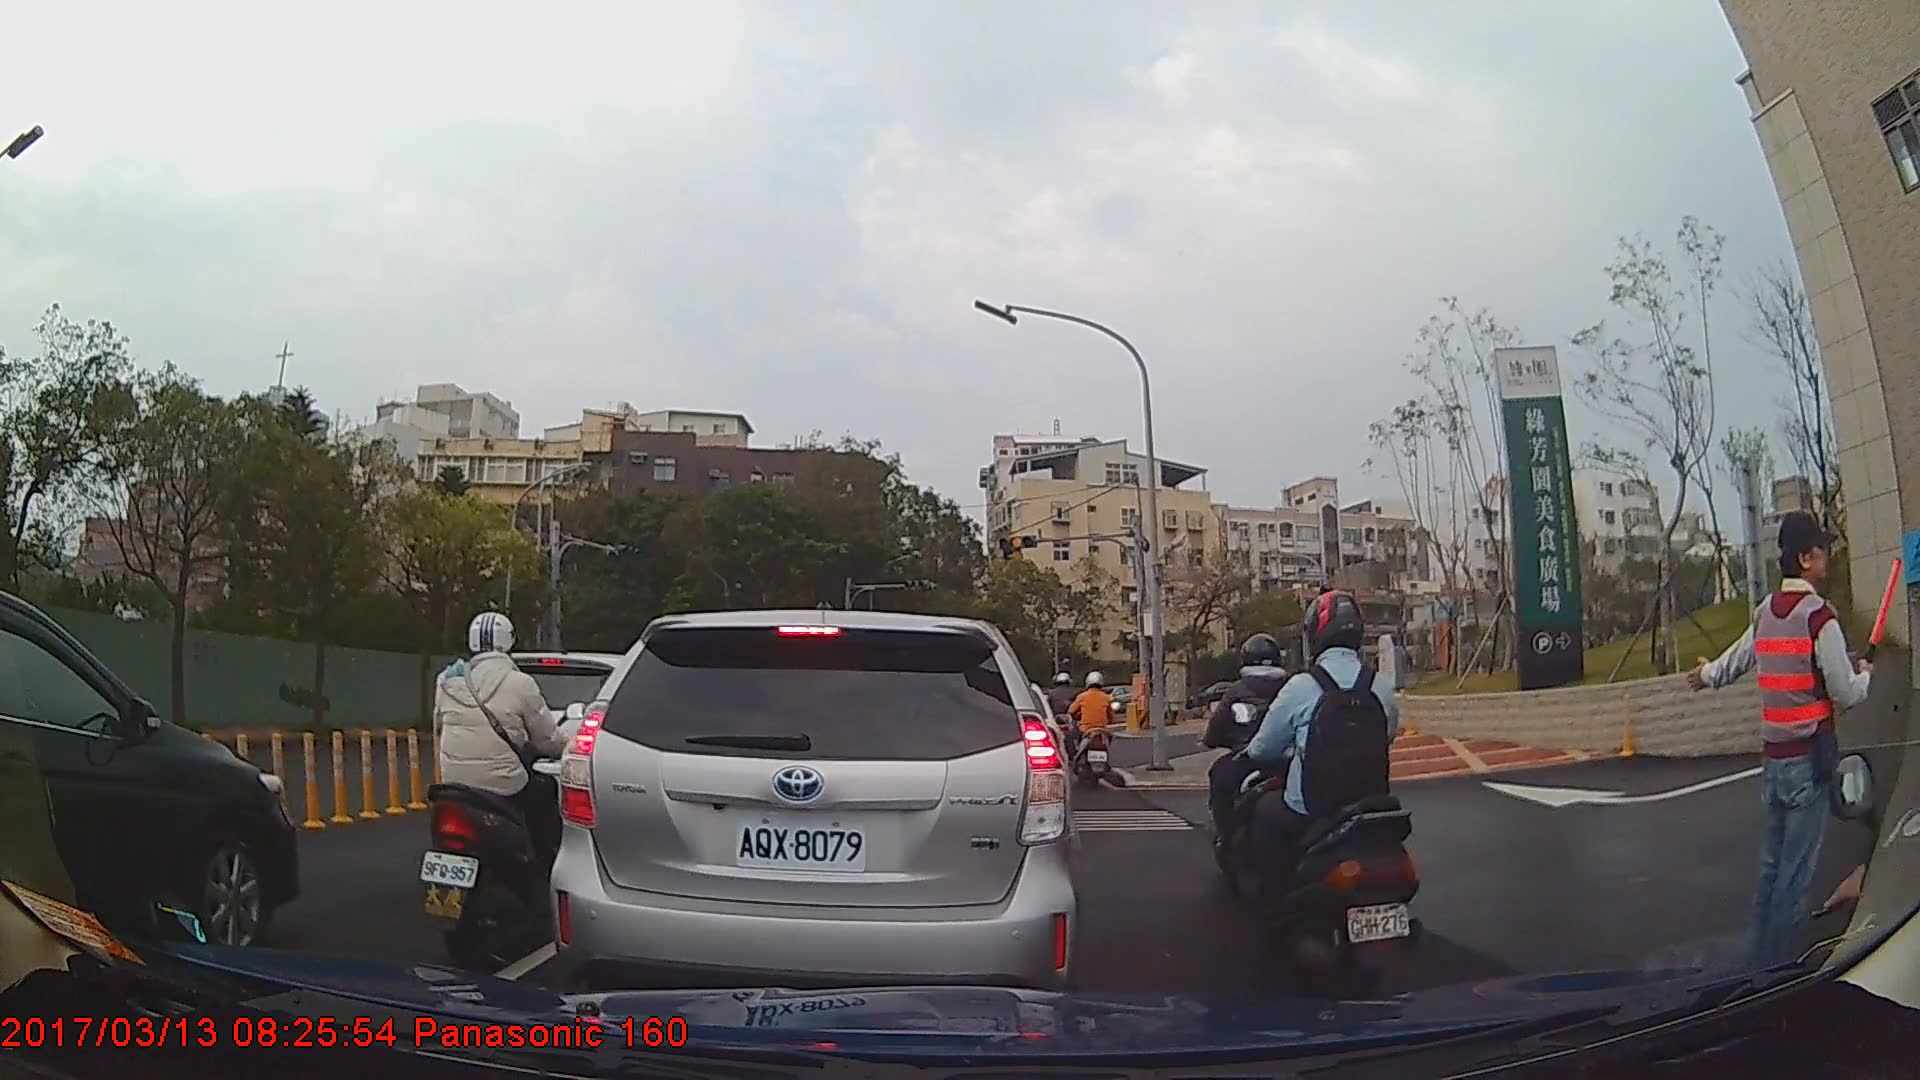pedestrian: (1687, 512, 1909, 992)
rider: (1237, 588, 1423, 989), (418, 610, 580, 960), (1201, 632, 1311, 896), (1070, 669, 1118, 783), (1044, 671, 1082, 766)
vehicle: (547, 609, 1081, 1001), (0, 586, 299, 965), (1186, 678, 1256, 715)
